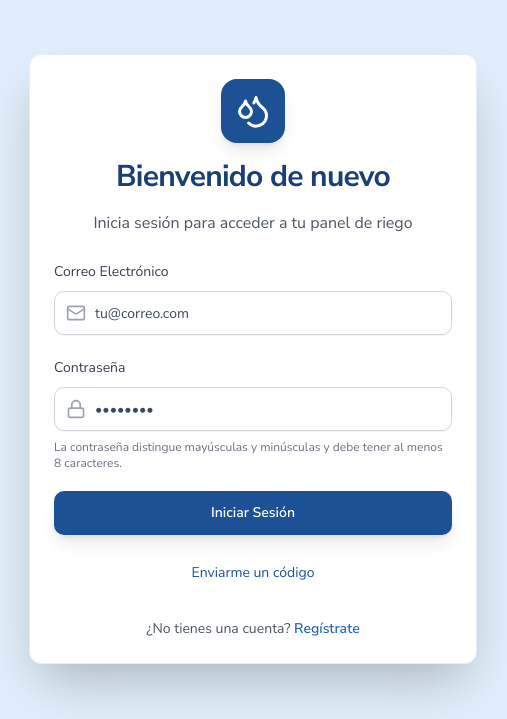
Test: Login page module › does not report OTP delivery as successful when the email request fails
In the field labelled "Correo Electrónico": (253, 313) [54,291,452,335], type "unverified@demo.com"
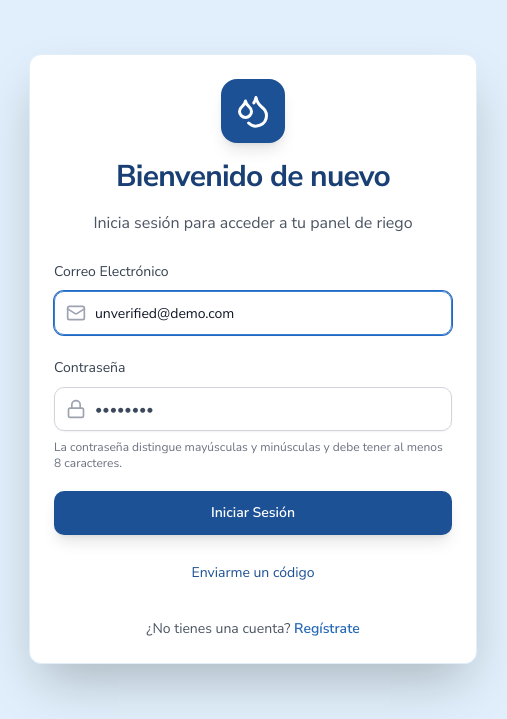
In the password field labelled "Contraseña": (253, 409) [54,387,452,431], type "a-valid-length-password"
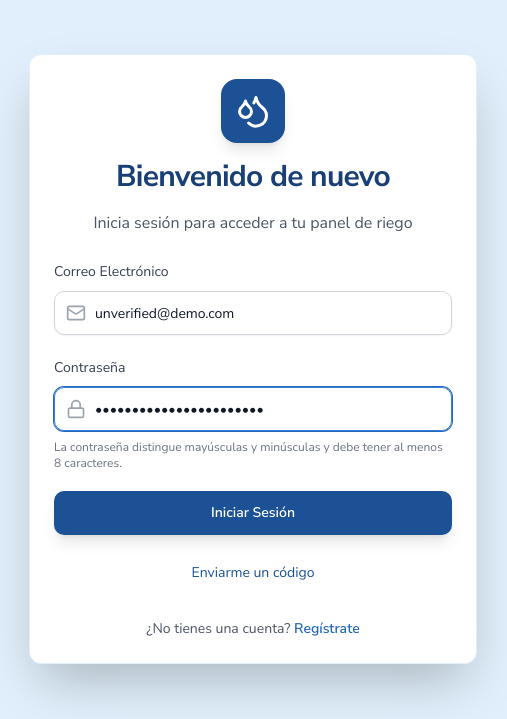
Click the button "Iniciar Sesión": (253, 513) [54,491,452,535]
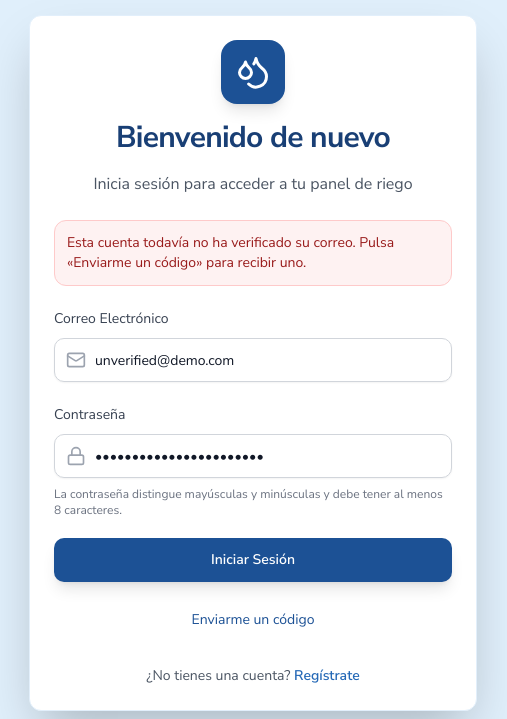
Click the button "Enviarme un código": (253, 620) [54,602,452,638]
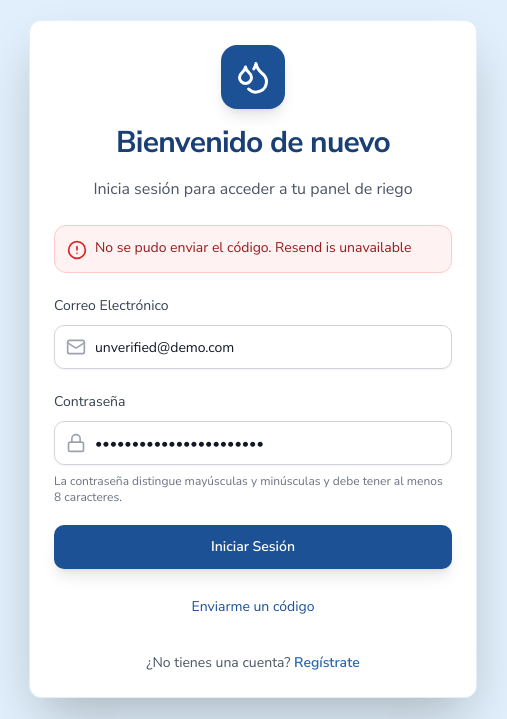
Result: the message shows "No se pudo enviar el código" at [95,238,411,257]
